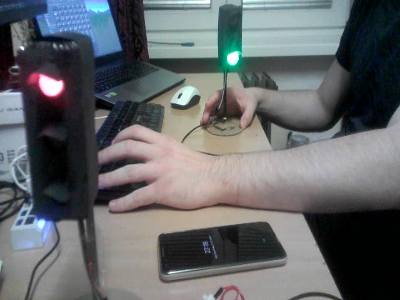trafficlight_green: (222, 7, 243, 68)
trafficlight_red: (26, 50, 83, 211)
